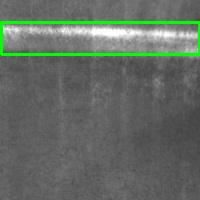scratches: (1, 22, 199, 54)
